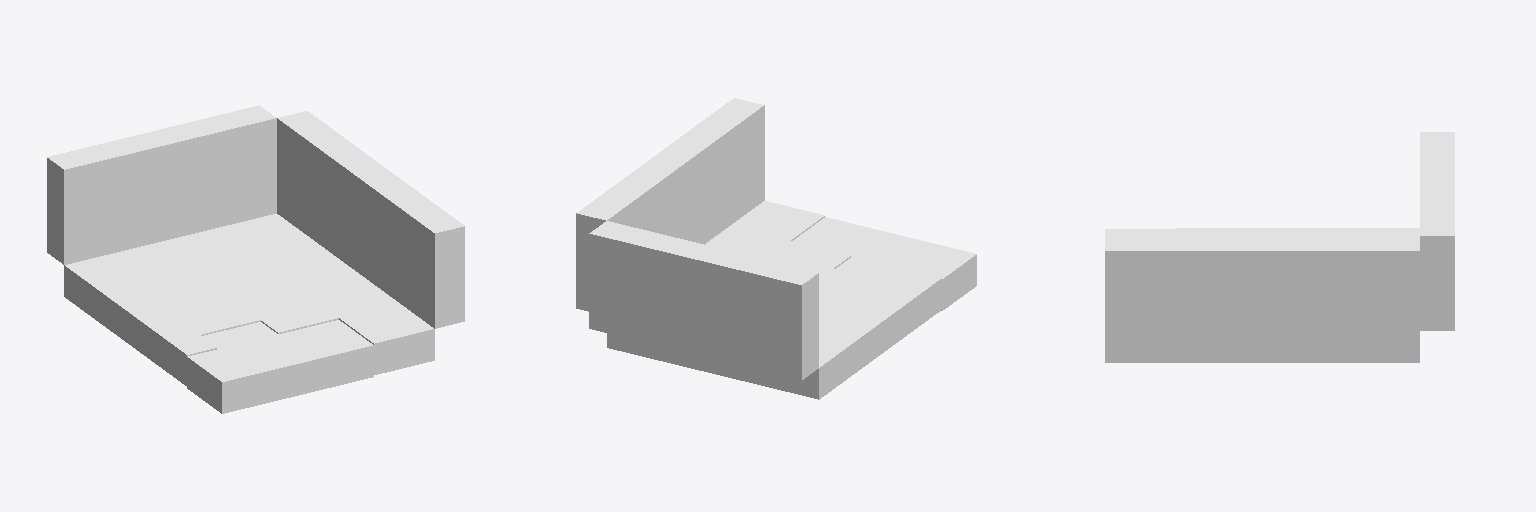
Rendered from order11.vox.obj.
3 views of the same model, side by side, from view 1: azimuth 30°, elevation 25°; view 2: azimuth 150°, elevation 25°; view 3: azimuth 270°, elevation 25° (orthographic).
Visible parts, largest first — view 1: object 1; view 2: object 1; view 3: object 1.
Part boxes in pixels (x1,y1,x2,y2): object 1: (47,105,464,413); object 1: (576,98,976,399); object 1: (1105,132,1454,362).
Bounding box in the file's own units: 16 × 8.1 × 20.